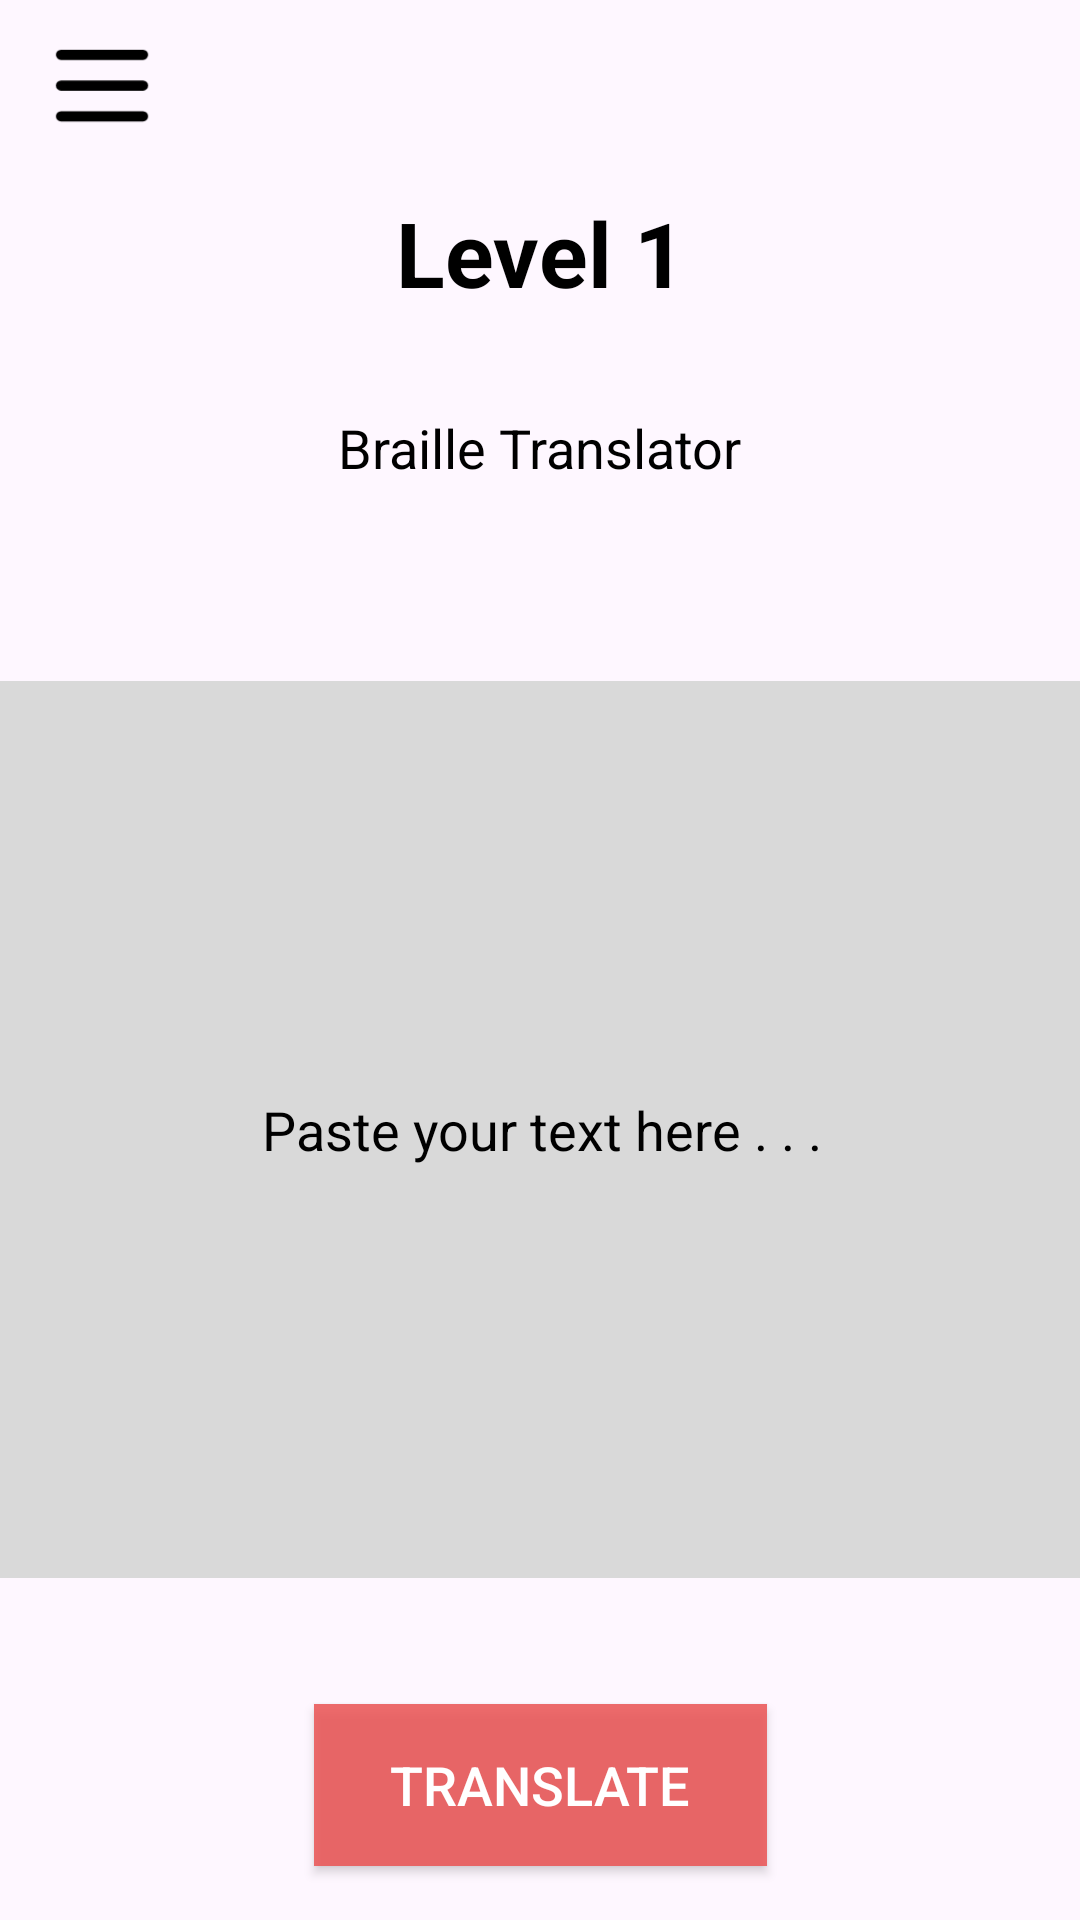

Named icons in this screenshot (1080 x 1920) and their centers, point (x, y):
menu: point (102, 85)
